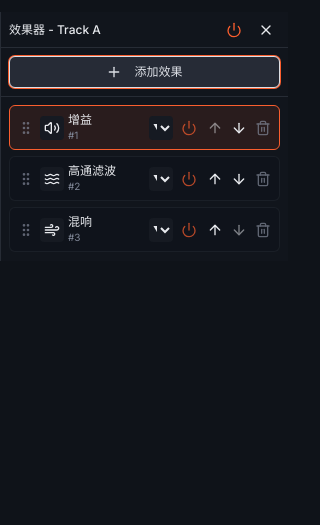
Test: EffectPanel parameter edits and newly added effects › restores the add button focus when adding returns null without an effect
What coordinates should you click on to do the following:
click the button "添加效果"
I would click on:
 (144, 72)
Its box is left=9, top=56, right=280, bottom=88.
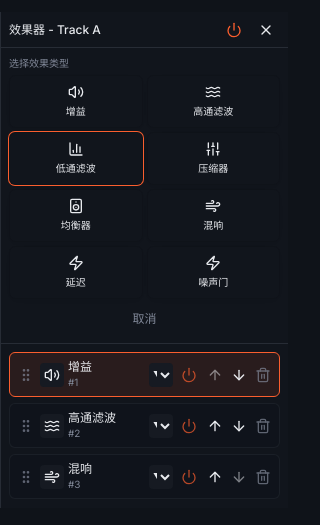
What coordinates should you click on to do the following:
click the button "低通滤波"
I would click on:
 (76, 158)
Its box is left=9, top=132, right=142, bottom=185.
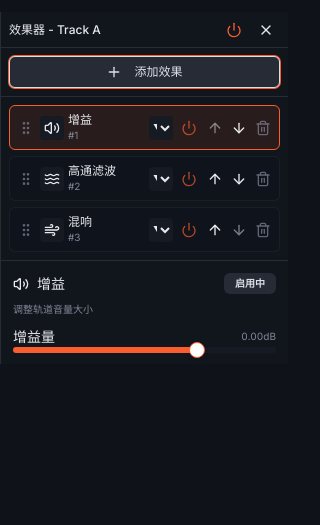
Now the text "选择效果类型" is gone
